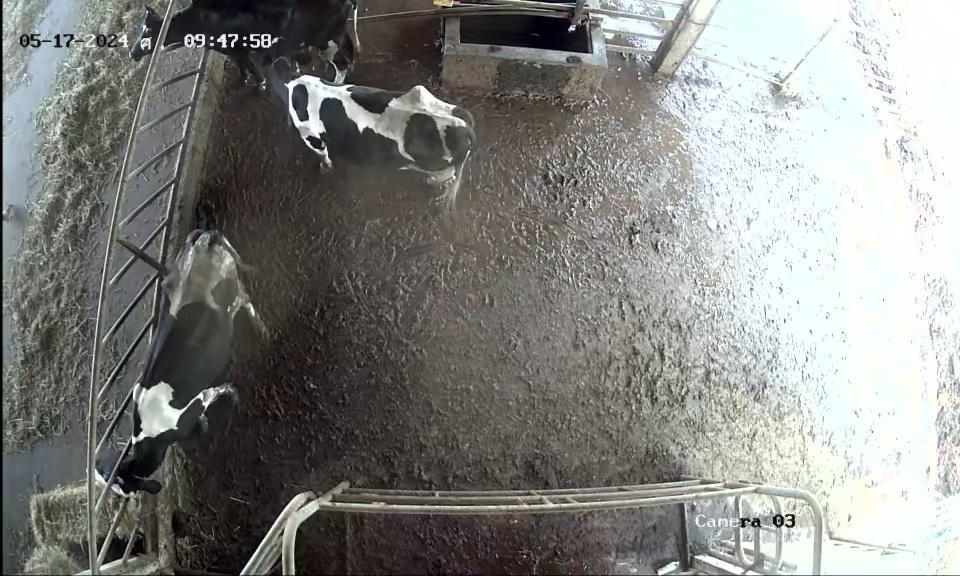eat: (75, 430, 188, 511), (106, 5, 212, 79)
stand: (245, 30, 488, 212)
